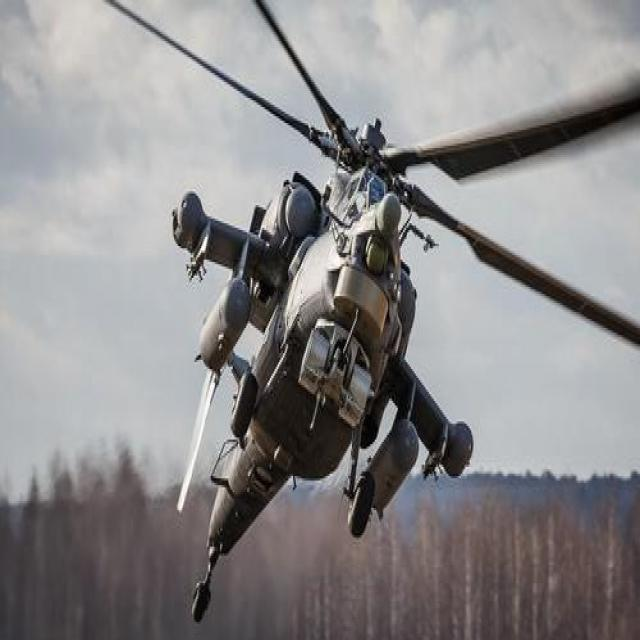MIL_HELO: (109, 0, 640, 624)
